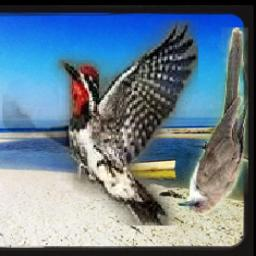Cuckoo: (176, 28, 247, 216)
Woodpecker: (2, 20, 198, 226)
